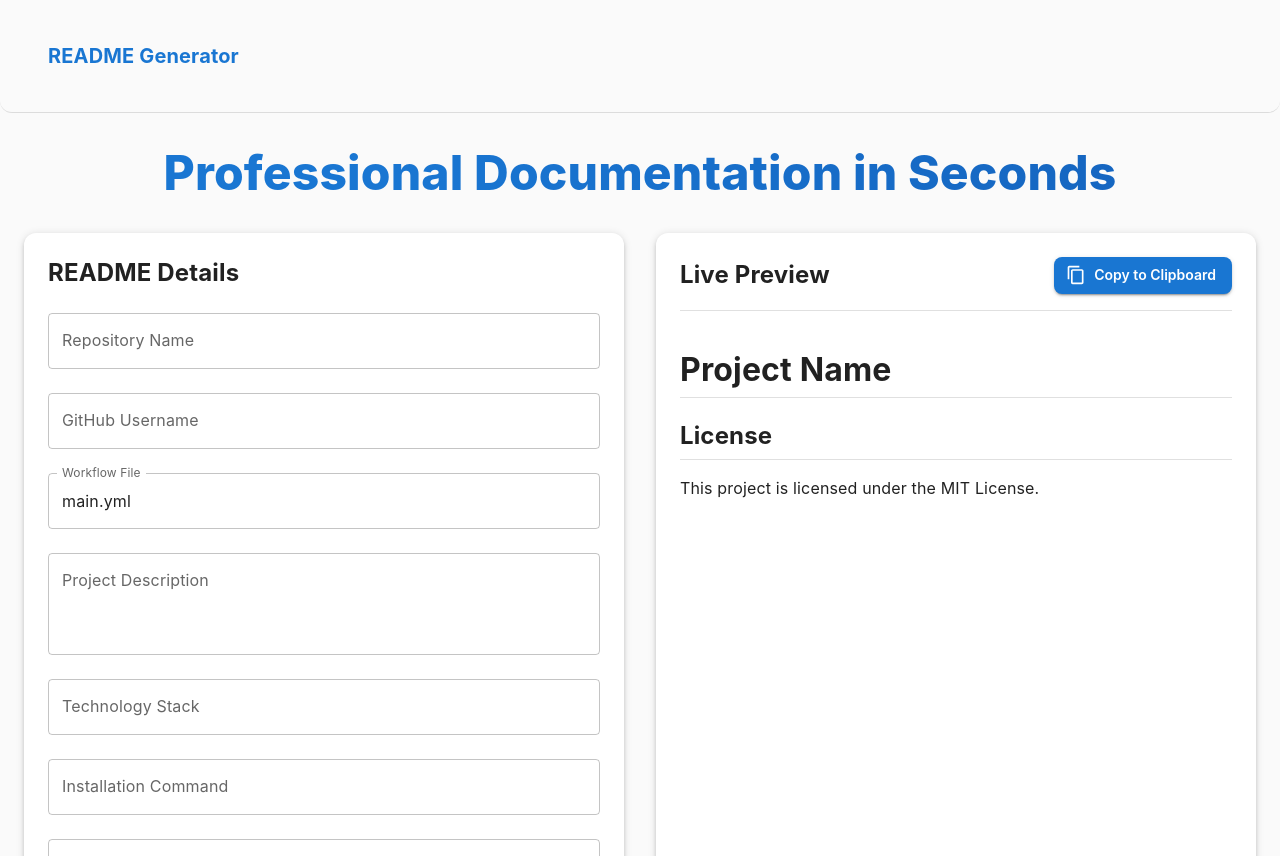
Test case: App Component › should update the preview when form inputs change
The image size is (1280, 856).
Type "My Awesome Project" into the field labelled "Repository Name" at (324, 341), box x1=48 y1=313 x2=600 y2=369
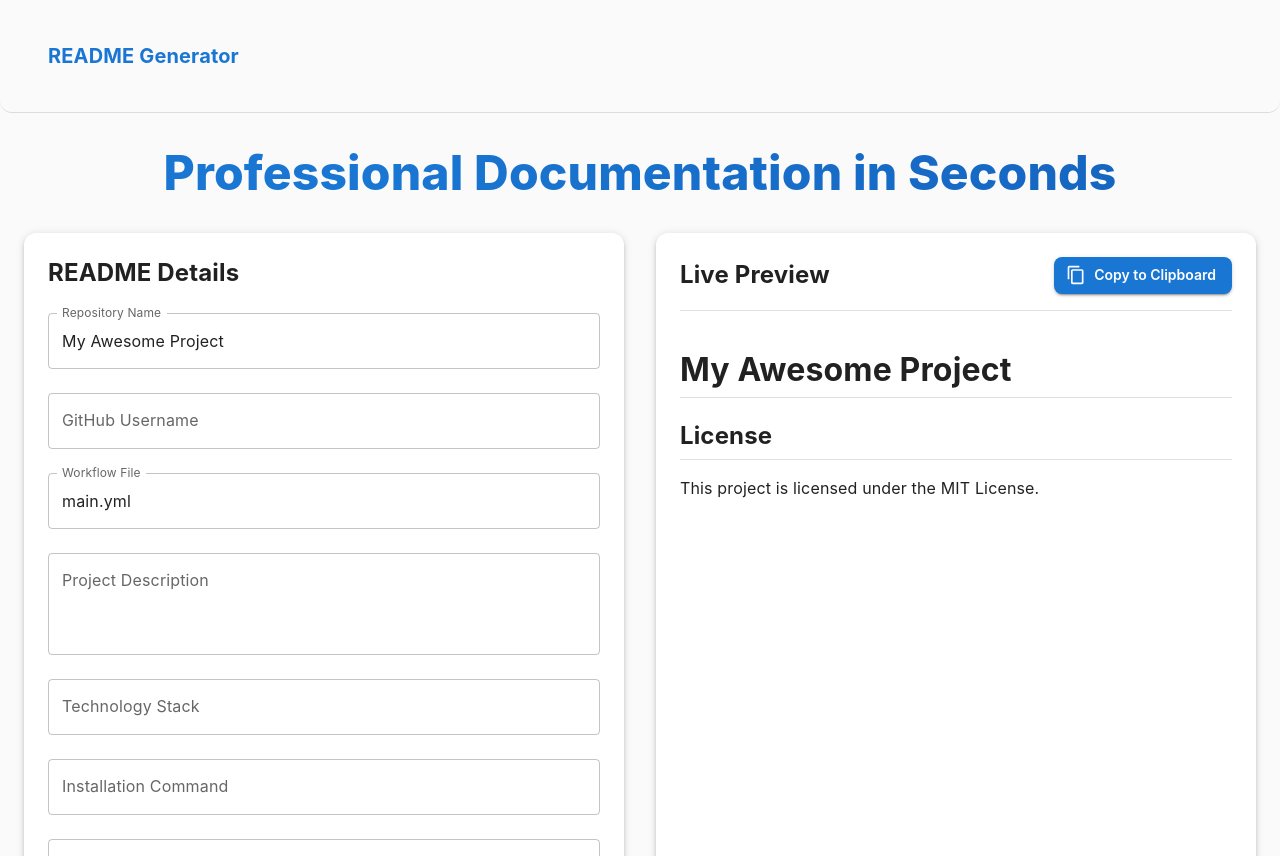
Now the heading "My Awesome Project" is shown, box x1=680 y1=350 x2=1232 y2=398
